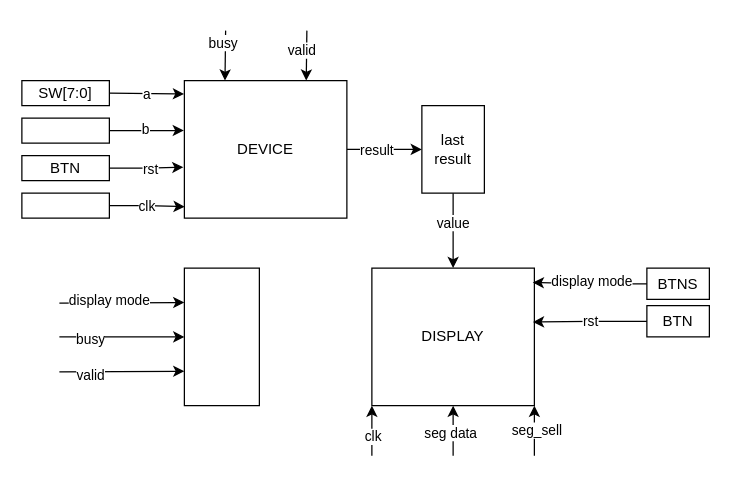
Some shapes in this 731 by 488 pixel diagram are drawn without their labels. Here are the shapes that lost their labels. From the top down, the centre of each, then its label:
[65,130]: SW[15:8]
[65,205]: OSC
[221,336]: LEDS
